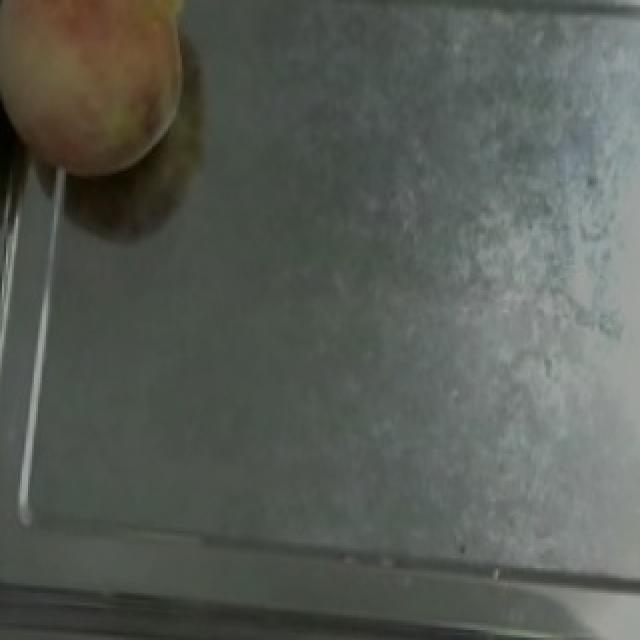Fruit: (0, 0, 222, 193)
